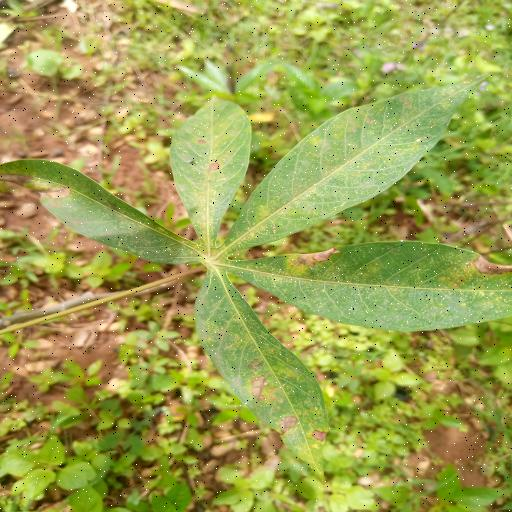Cassava_Brown_Leaf_Spot: (0, 76, 512, 481)
